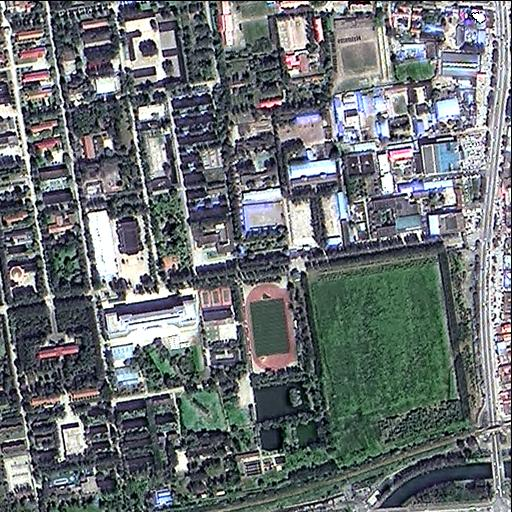school: (197, 262, 308, 378)
